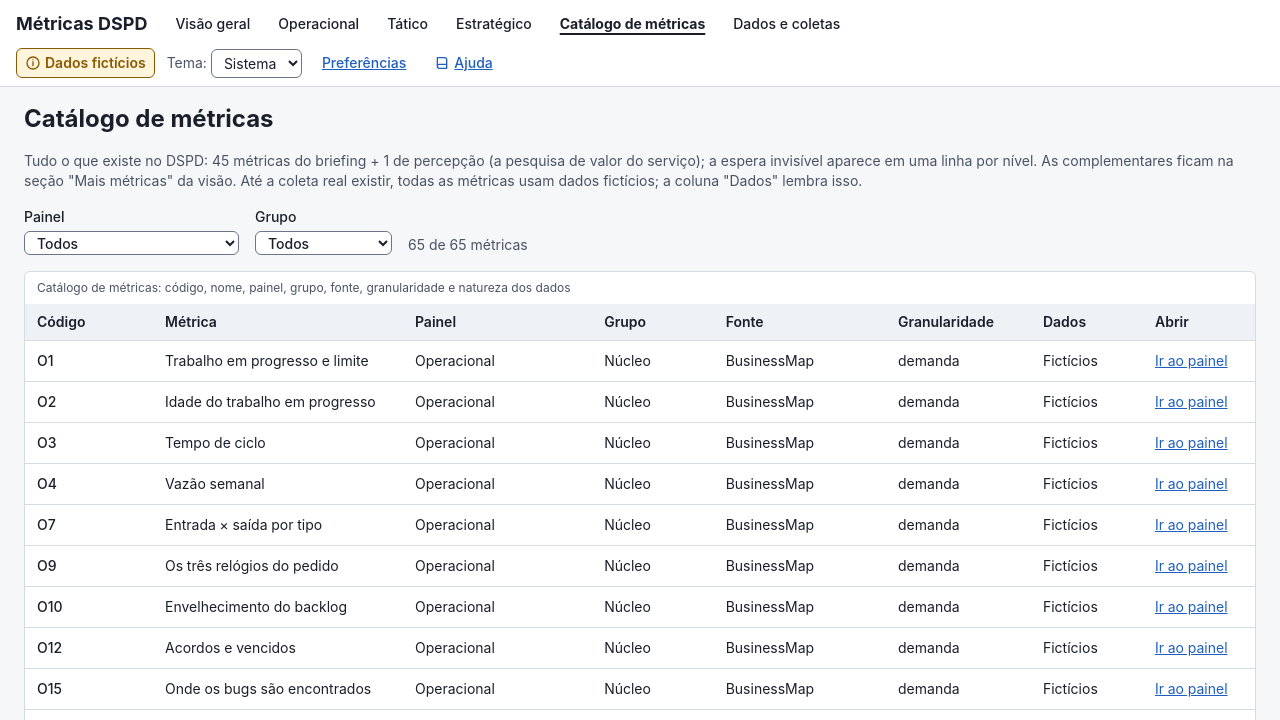
Catálogo de métricas (/metricas) › mostra a tabela com status escrito e link que abre o cartão; filtros por painel e grupo
The image size is (1280, 720).
Expected: the heading "Catálogo de métricas" is shown, x1=24 y1=104 x2=274 y2=133
Expected: the message with test id "contagem-catalogo" reads "65 de 65 métricas", x1=408 y1=235 x2=528 y2=255
Select "Complementar" in the dropdown labelled "Grupo" at point(324, 243), box x1=255 y1=231 x2=392 y2=255
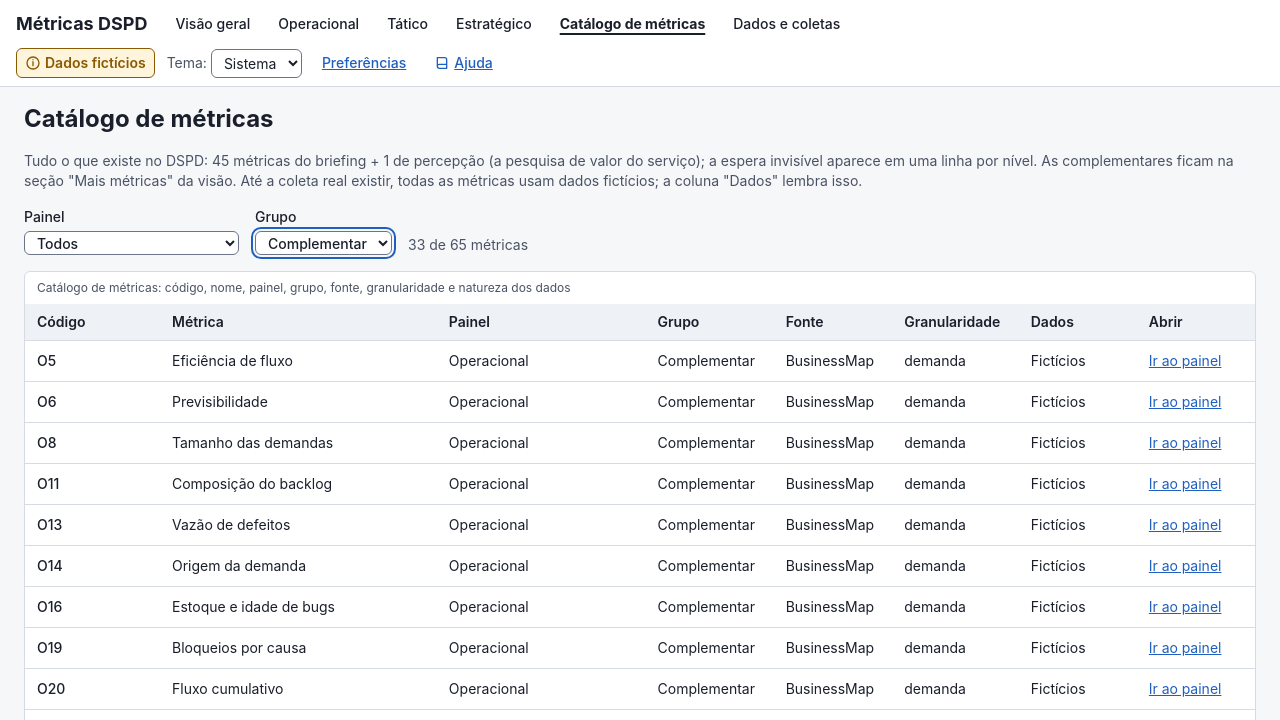
Expected: the option does not show "Sustentação"
Expected: the message with test id "contagem-catalogo" reads "33 de 65 métricas", x1=408 y1=235 x2=528 y2=255
Select "Operacional · Sustentação" in the dropdown labelled "Painel" at point(132, 243), box x1=24 y1=231 x2=239 y2=255
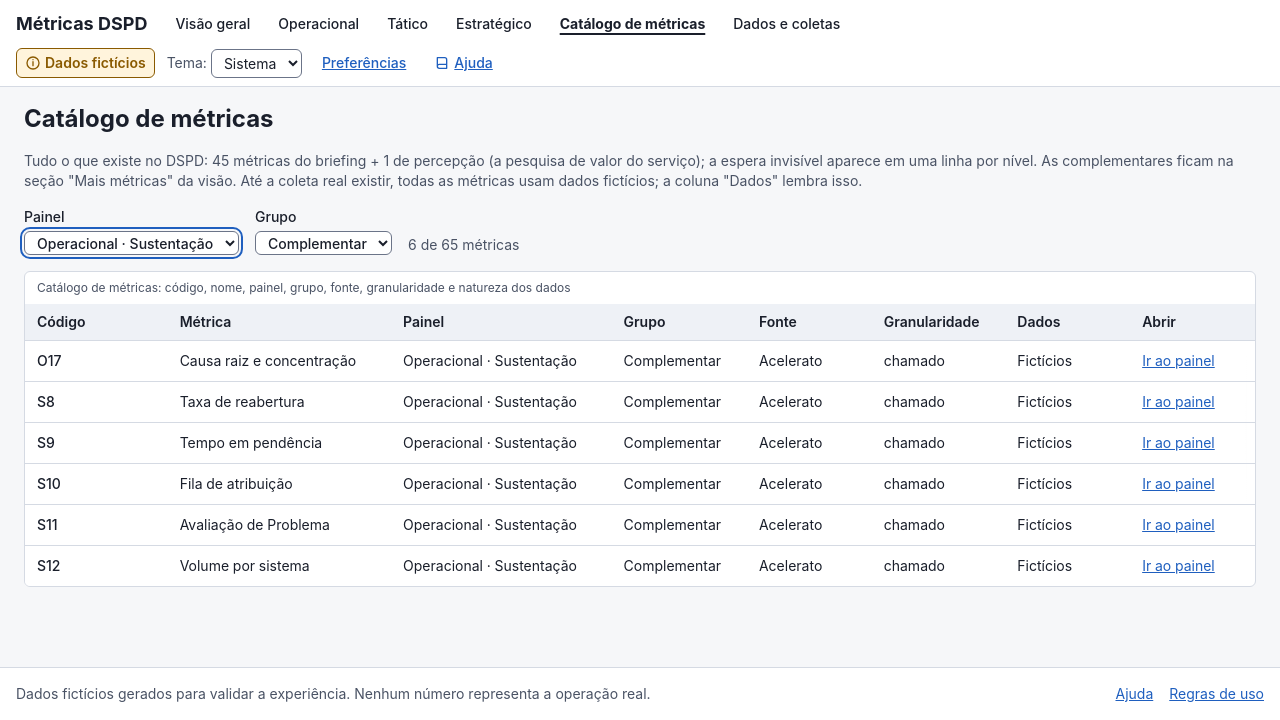
Expected: the message with test id "contagem-catalogo" reads "6 de 65 métricas", x1=408 y1=235 x2=519 y2=255
